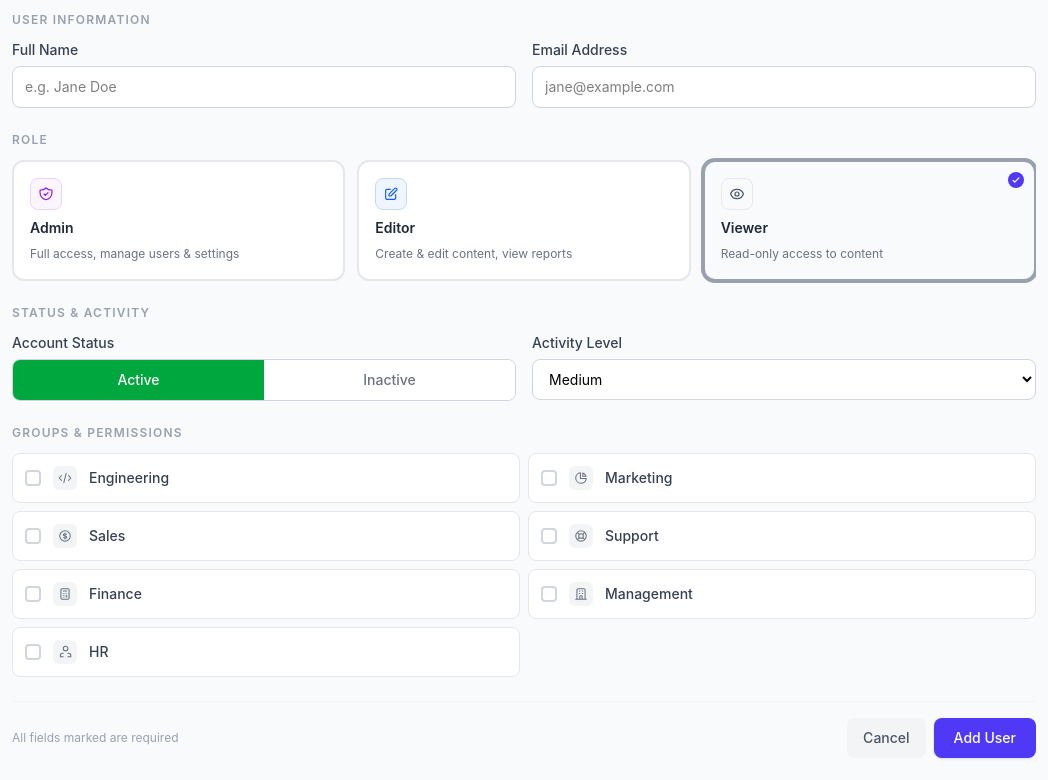
Test: Error clearing on input › clears the name error once the user starts typing
This screenshot has width=1048, height=780.
Click the button "Add User". click: [985, 738]
box: [934,718,1036,758]
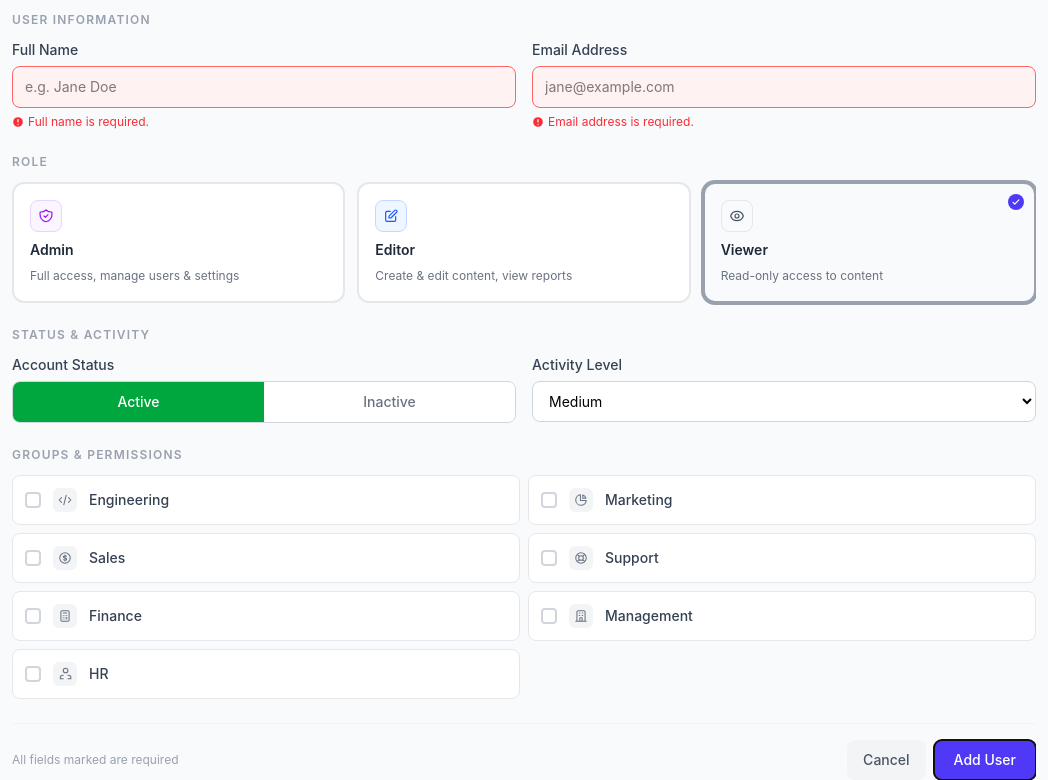
Now the text "Full name is required." is shown, box [12,114,149,129]
Type "J" into the field with placeholder "e.g. Jane Doe". click: [264, 87]
box: [12,66,516,108]
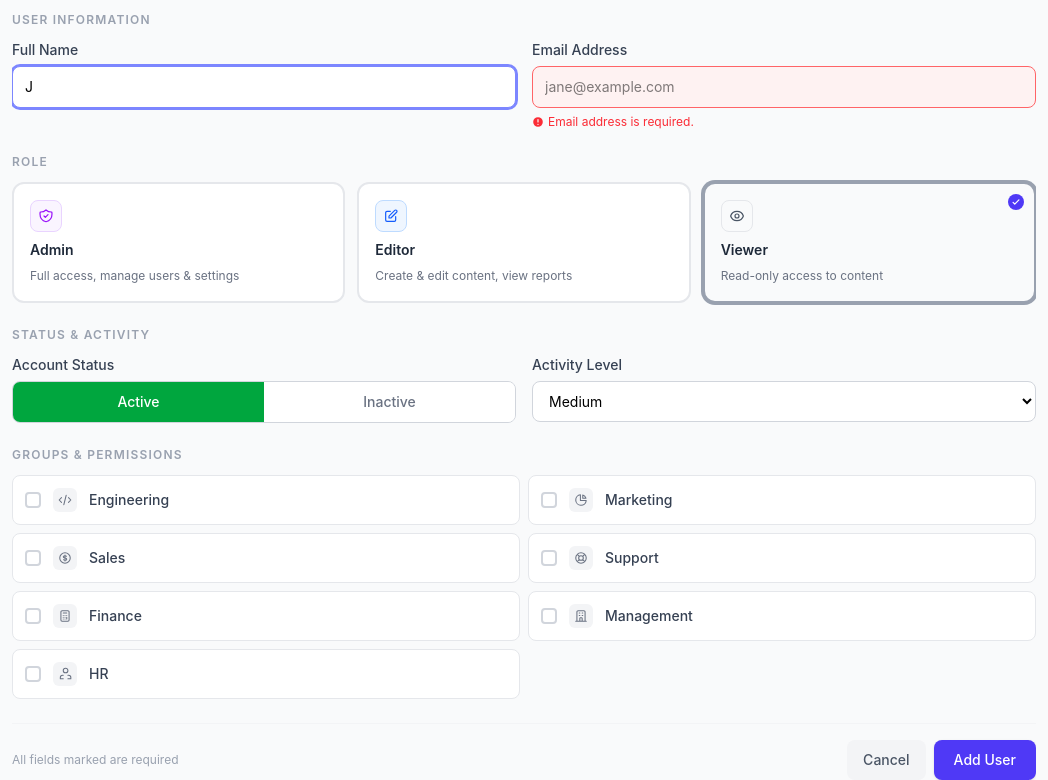
Now the text "Full name is required" is gone
